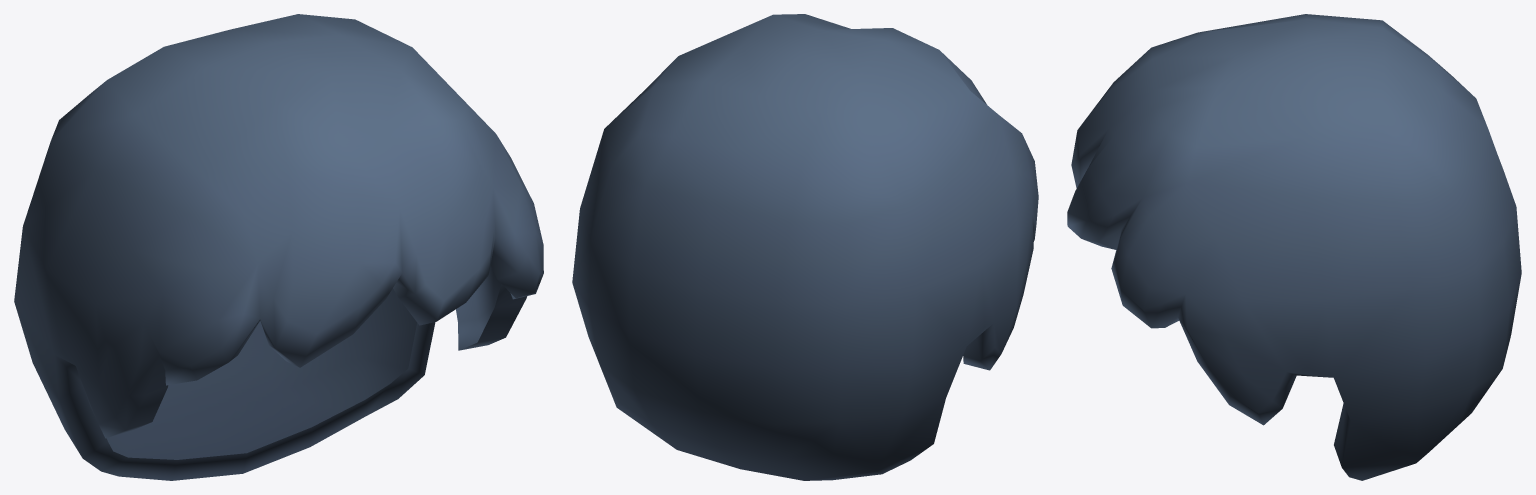
File: Hair_01.fbx
3 views of the same model, side by side, from view 1: azimuth 30°, elevation 25°; view 2: azimuth 150°, elevation 25°; view 3: azimuth 270°, elevation 25° (orthographic). The views are drawn at different scales.
Visible parts, largest first — view 1: Hair_01; view 2: Hair_01; view 3: Hair_01.
Part boxes in pixels (box(x1,y1,x2,y2)): Hair_01: box(14, 14, 543, 480); Hair_01: box(572, 14, 1038, 480); Hair_01: box(1067, 14, 1521, 480).
Size of the model in its own units: 68.65 by 68.43 by 68.97.
